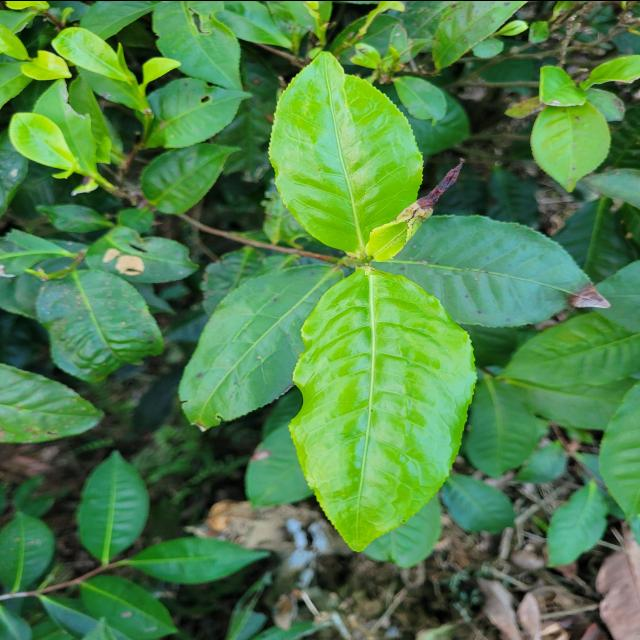Catagory A(1-2 days): (365, 158, 473, 274)
